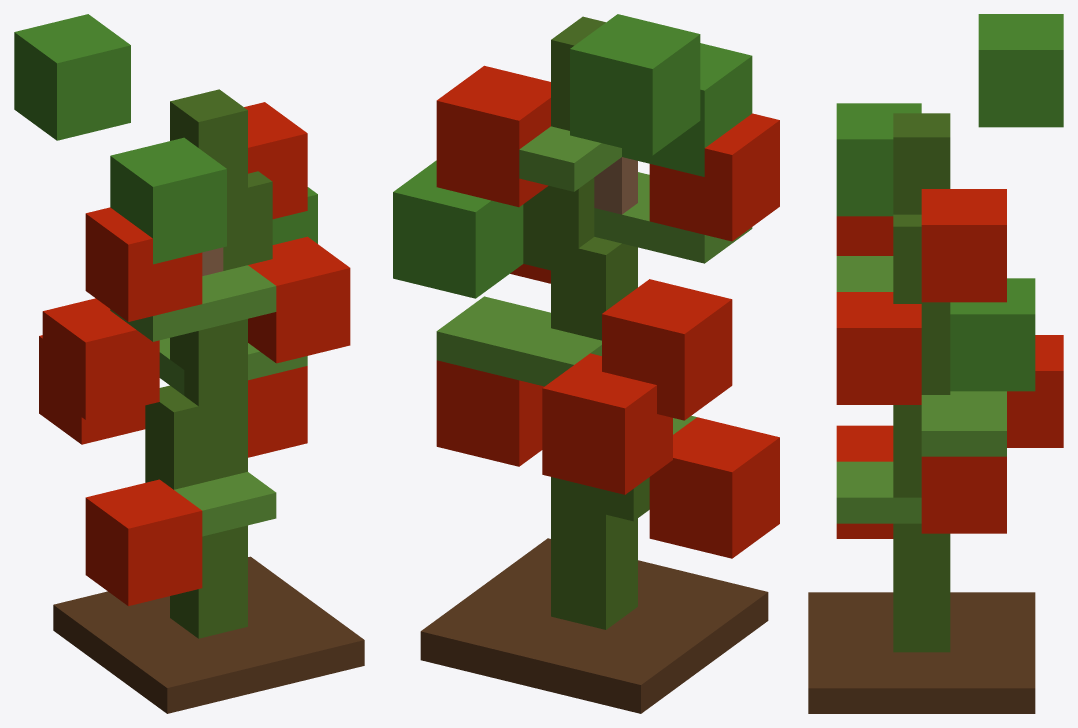
The model's file is tomate_v3.obj.
The picture shows the model from 3 angles, left to right: view 1: azimuth 30°, elevation 25°; view 2: azimuth 150°, elevation 25°; view 3: azimuth 270°, elevation 25°; orthographic projection. The views are drawn at different scales.
Bounding box in the file's own units: 10 × 23 × 9.
